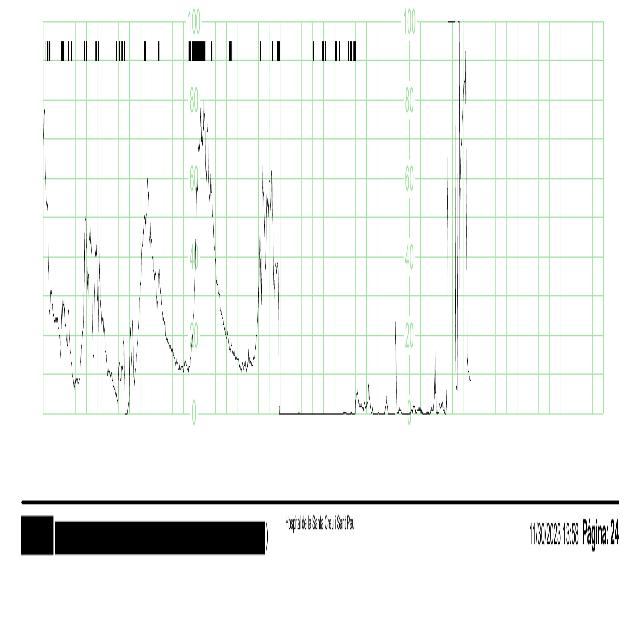contraction: (189, 108, 221, 371), (445, 23, 466, 413), (135, 174, 165, 382), (76, 220, 108, 386), (253, 174, 279, 355)
